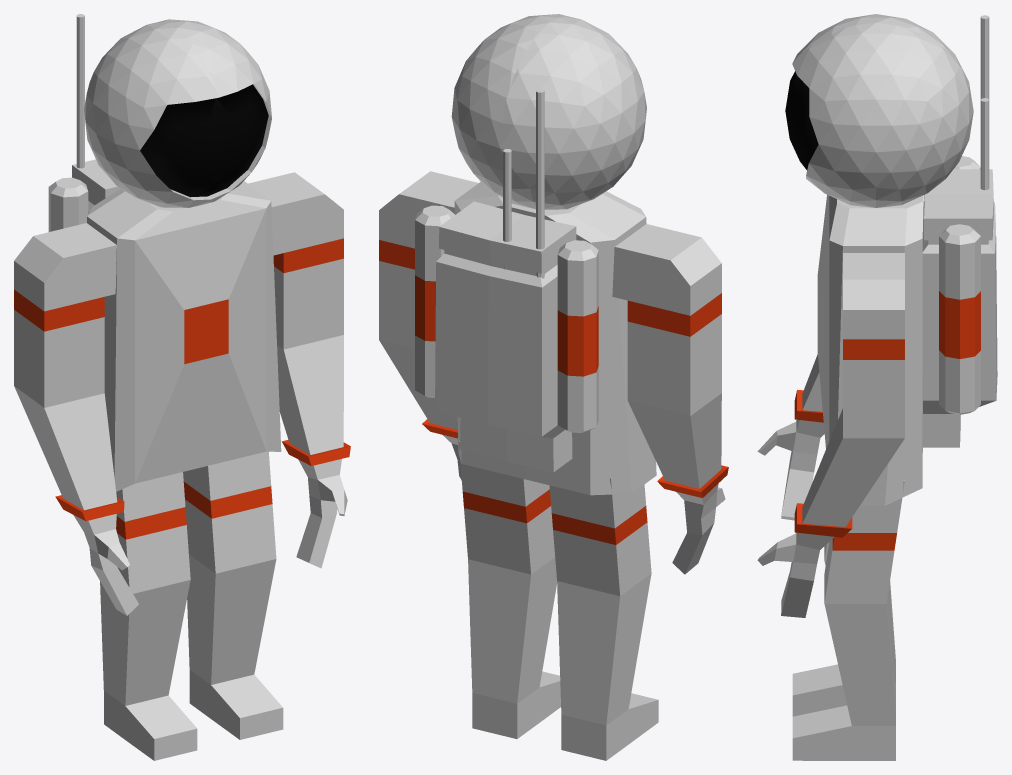
Rendered from Astronaut_Base.fbx.
3 views of the same model, side by side, from view 1: azimuth 30°, elevation 25°; view 2: azimuth 150°, elevation 25°; view 3: azimuth 270°, elevation 25° (orthographic). The views are drawn at different scales.
Parts seen in each view (by area): view 1: Cube, Icosphere; view 2: Cube, Icosphere; view 3: Cube, Icosphere.
Part boxes in pixels (bbox=[...]): Cube: bbox=[14, 14, 350, 760]; Icosphere: bbox=[84, 19, 271, 207]; Cube: bbox=[379, 89, 728, 760]; Icosphere: bbox=[451, 14, 646, 209]; Cube: bbox=[757, 15, 997, 760]; Icosphere: bbox=[785, 14, 973, 207].
Bounding box in the file's own units: 303 × 665 × 205.
